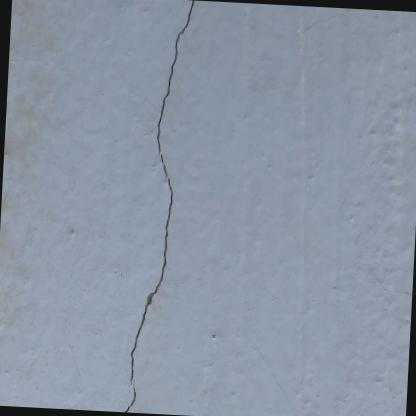crack: (121, 0, 193, 412)
